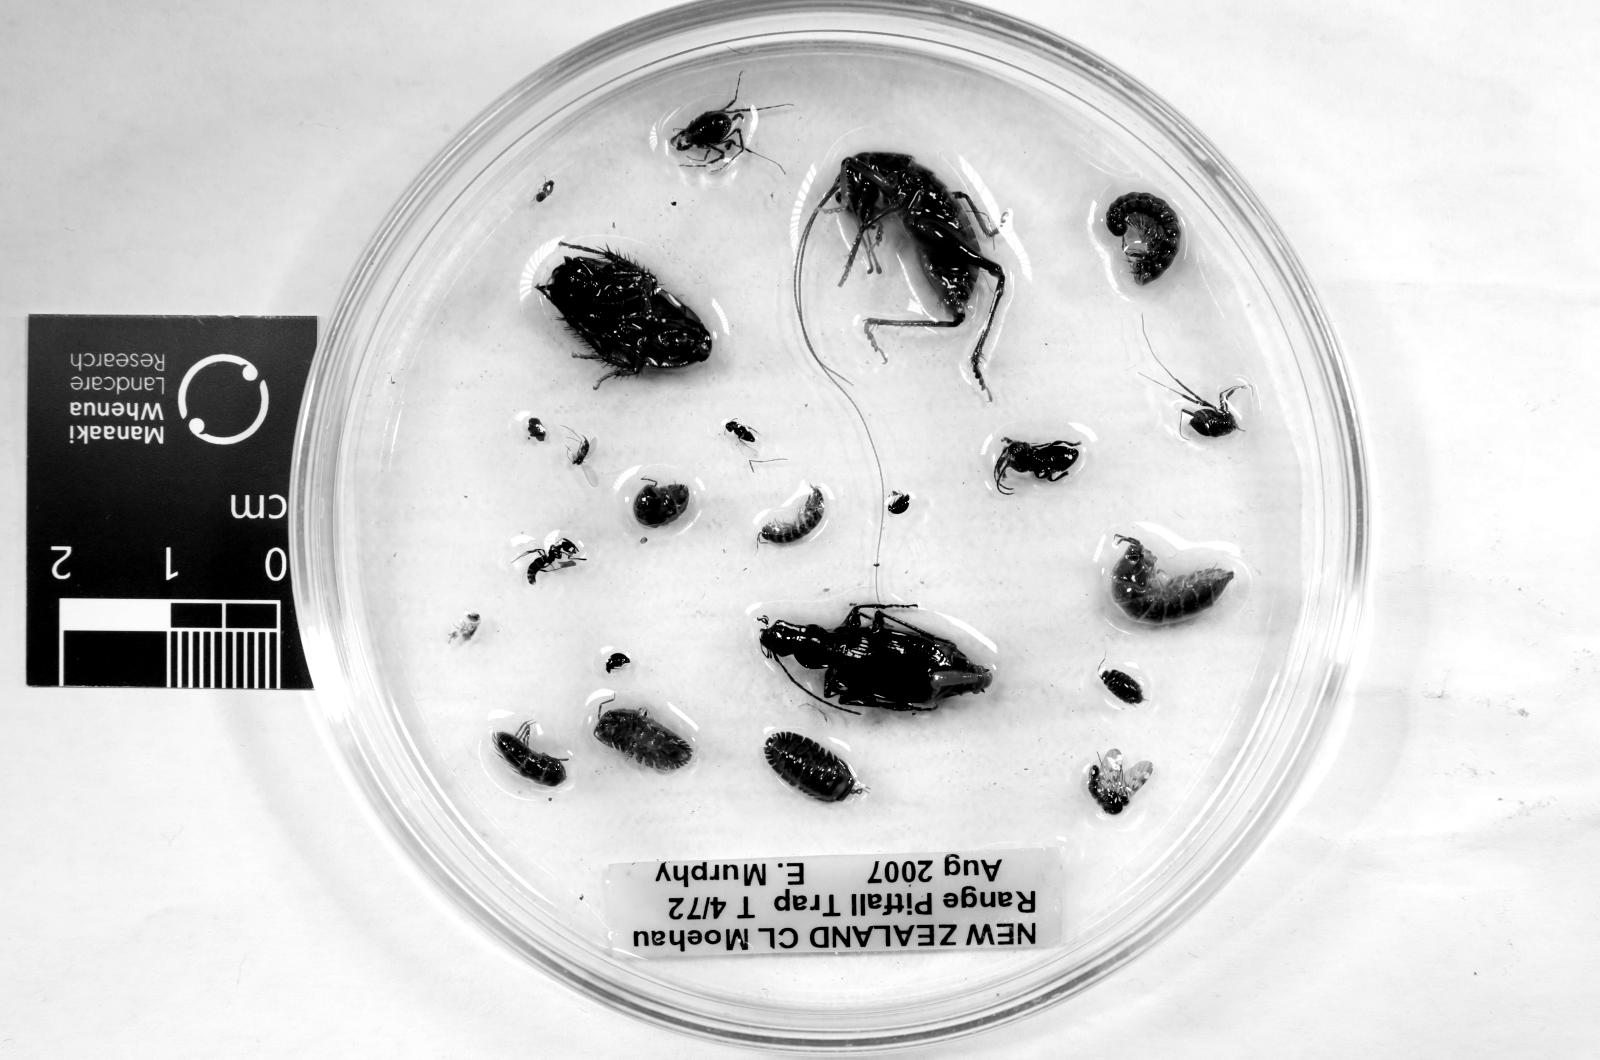blattodea: (538, 242, 712, 382)
carabidae: (759, 602, 991, 711)
coleoptera: (994, 438, 1081, 494), (606, 652, 631, 674), (888, 491, 909, 516)
diplopoda: (1106, 193, 1181, 286)
diptera: (1088, 748, 1153, 814), (572, 438, 600, 488), (725, 419, 759, 460)
formicidae: (525, 537, 584, 584)
isopoda: (1112, 537, 1234, 621), (766, 733, 862, 801), (594, 711, 694, 770), (759, 488, 822, 543), (1100, 671, 1144, 705)
opiliones: (669, 99, 750, 165), (1175, 379, 1238, 438)
orthoptera: (816, 152, 1006, 391)
